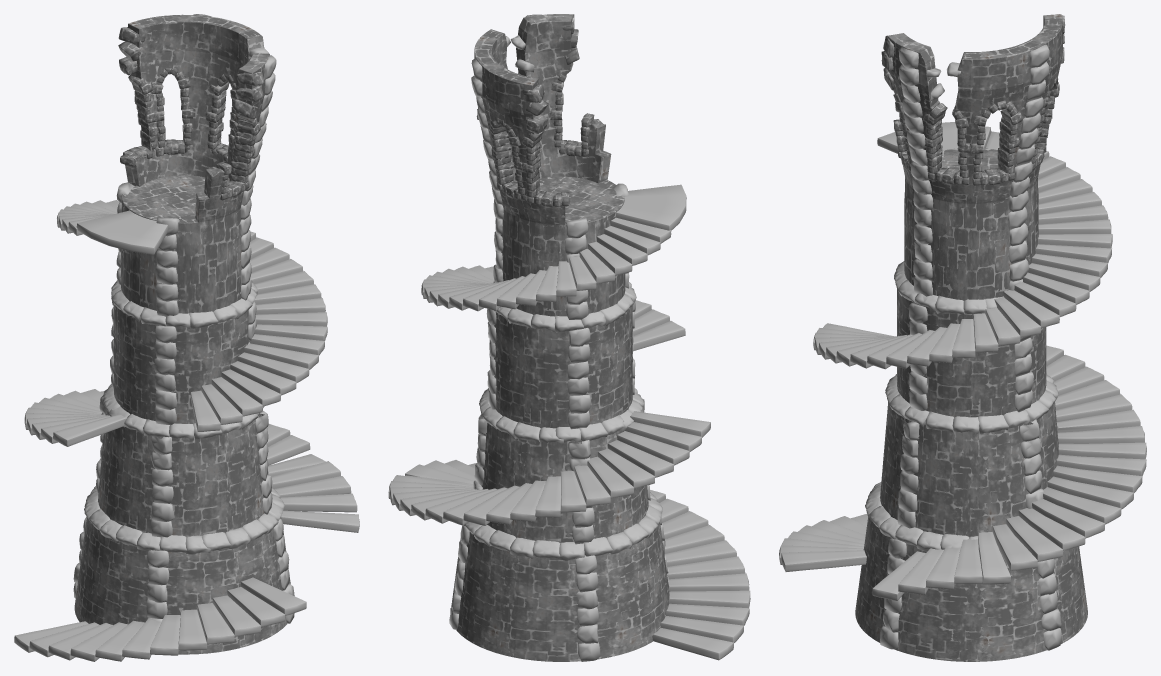
File: TurmBase.fbx
3 renders of one model, left to right at view 1: azimuth 30°, elevation 25°; view 2: azimuth 150°, elevation 25°; view 3: azimuth 270°, elevation 25°, orthographic. The views are drawn at different scales.
Visible parts, largest first — view 1: TurmBase; view 2: TurmBase; view 3: TurmBase.
Part boxes in pixels (x1=…): TurmBase: x1=14, y1=14, x2=359, y2=661; TurmBase: x1=388, y1=14, x2=750, y2=661; TurmBase: x1=779, y1=14, x2=1146, y2=661.
Bounding box in the file's own units: 11.29 × 19.16 × 10.78.
